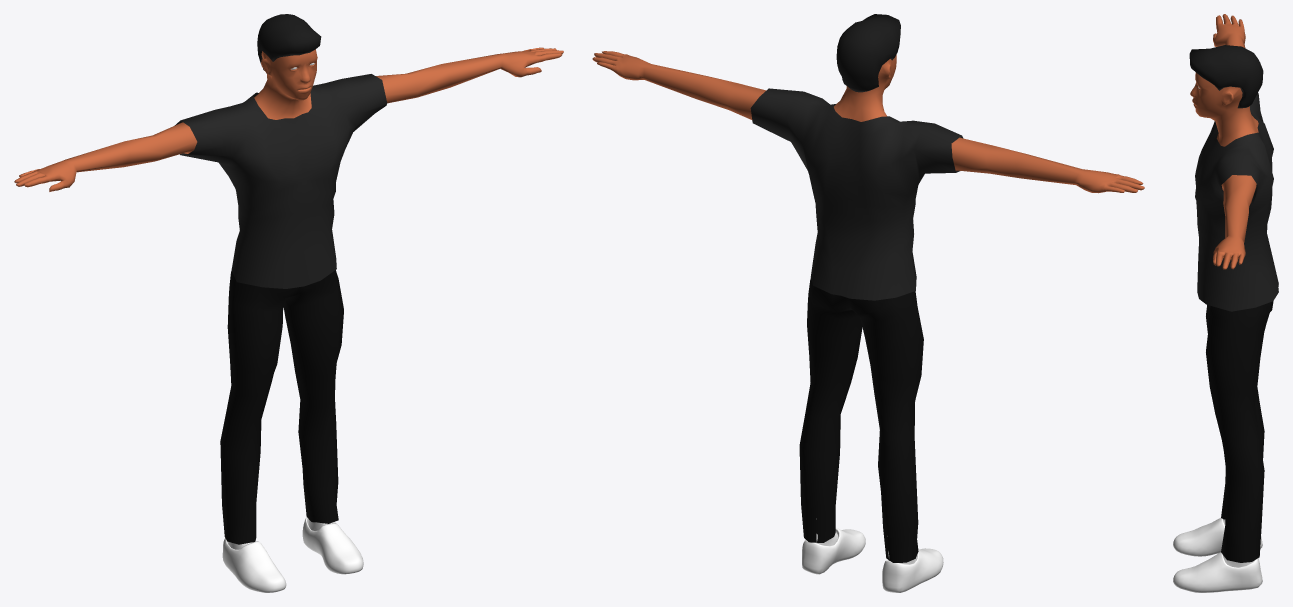
File: Man 8.obj
3 views of the same model, side by side, from view 1: azimuth 30°, elevation 25°; view 2: azimuth 150°, elevation 25°; view 3: azimuth 270°, elevation 25° (orthographic). The views are drawn at different scales.
Parts seen in each view (by area): view 1: Human:Male1591.001, Human:Male1591.002, Human:Male1591, Human:Shoes05, Human:Male1591.003_Human:Male1591.005; view 2: Human:Male1591.001, Human:Male1591.002, Human:Male1591, Human:Shoes05, Human:Male1591.003_Human:Male1591.005; view 3: Human:Male1591.002, Human:Male1591.001, Human:Male1591, Human:Shoes05, Human:Male1591.003_Human:Male1591.005.
Part boxes in pixels (bbox=[...]): Human:Male1591.001: bbox=[174, 74, 387, 288]; Human:Male1591.002: bbox=[220, 270, 343, 544]; Human:Male1591: bbox=[14, 47, 563, 191]; Human:Shoes05: bbox=[222, 517, 363, 592]; Human:Male1591.003_Human:Male1591.005: bbox=[257, 14, 321, 73]; Human:Male1591.001: bbox=[750, 88, 963, 300]; Human:Male1591.002: bbox=[799, 278, 923, 562]; Human:Male1591: bbox=[592, 51, 1144, 193]; Human:Shoes05: bbox=[802, 518, 943, 592]; Human:Male1591.003_Human:Male1591.005: bbox=[836, 14, 900, 92]; Human:Male1591.002: bbox=[1206, 301, 1273, 562]; Human:Male1591.001: bbox=[1195, 93, 1278, 311]; Human:Male1591: bbox=[1190, 14, 1258, 269]; Human:Shoes05: bbox=[1173, 518, 1262, 592]; Human:Male1591.003_Human:Male1591.005: bbox=[1189, 45, 1263, 108].
Bounding box in the file's own units: 19.93 × 19.06 × 3.51.
